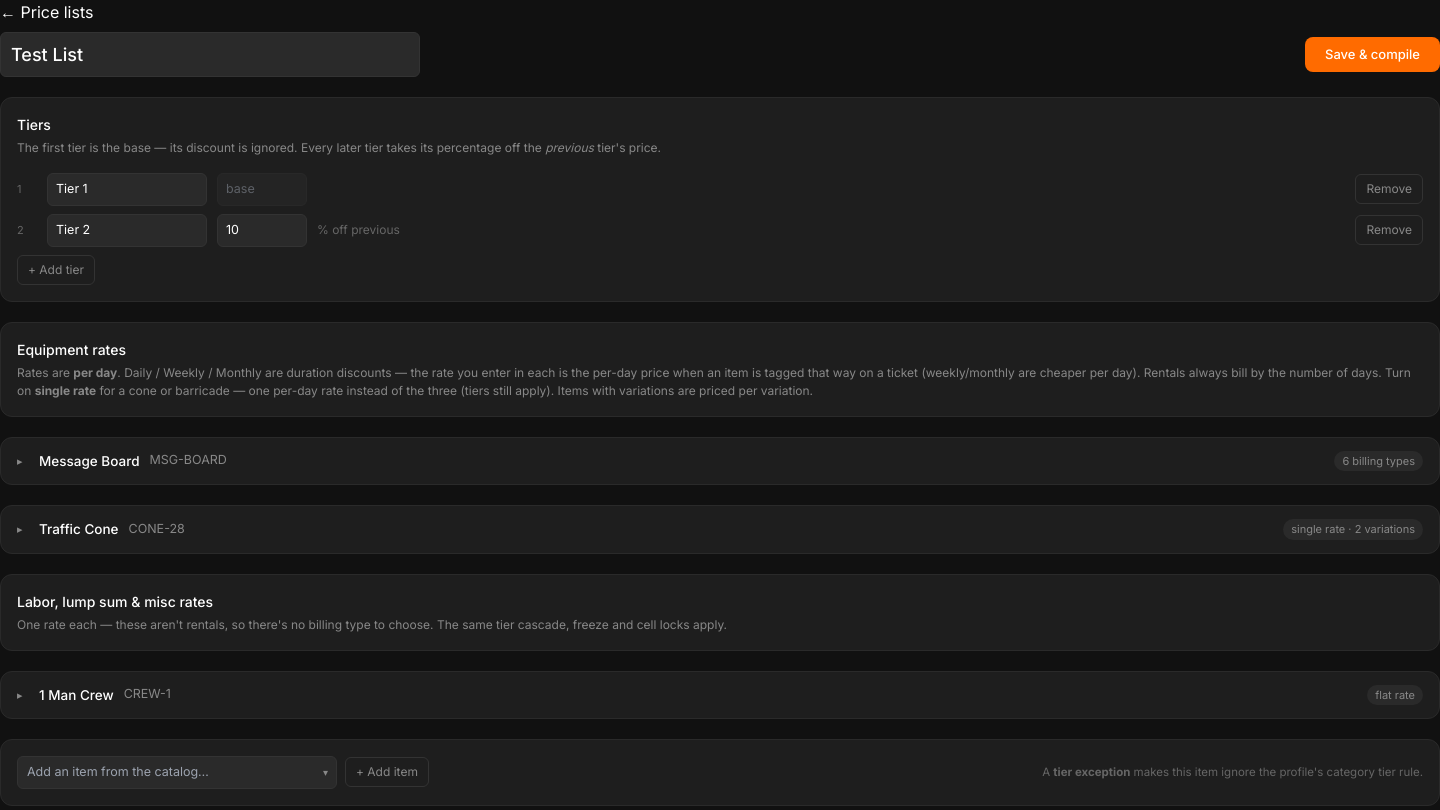
price-list editor — collapse + single-rate + per-variation grids › does not offer single-rate for a charge item (it is inherently flat)
Click the text "CREW-1": x=147, y=695 left=124, top=685, right=171, bottom=704
(page scrolled)
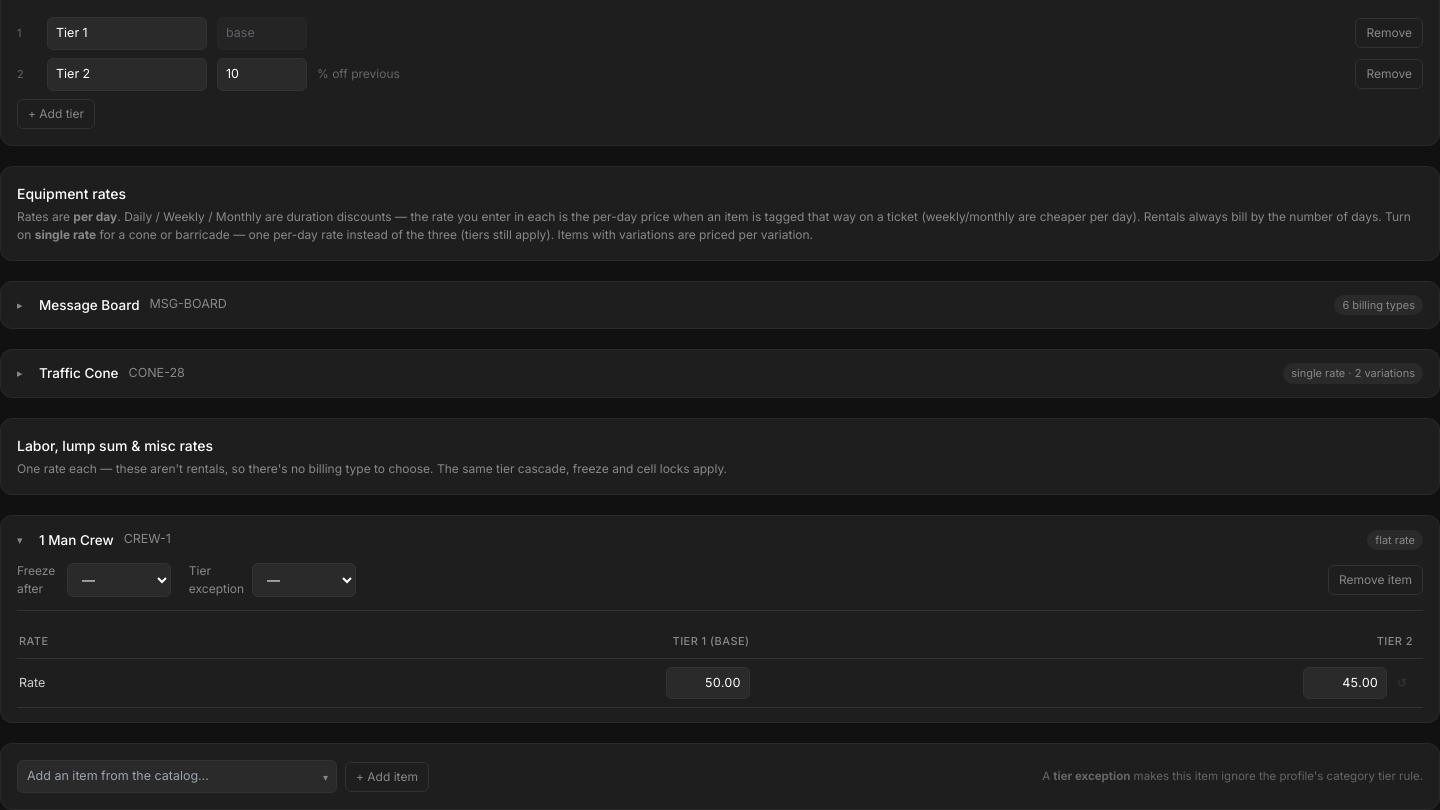
Result: the field named "CREW-1 rate base" is shown at left=666, top=666, right=750, bottom=699
